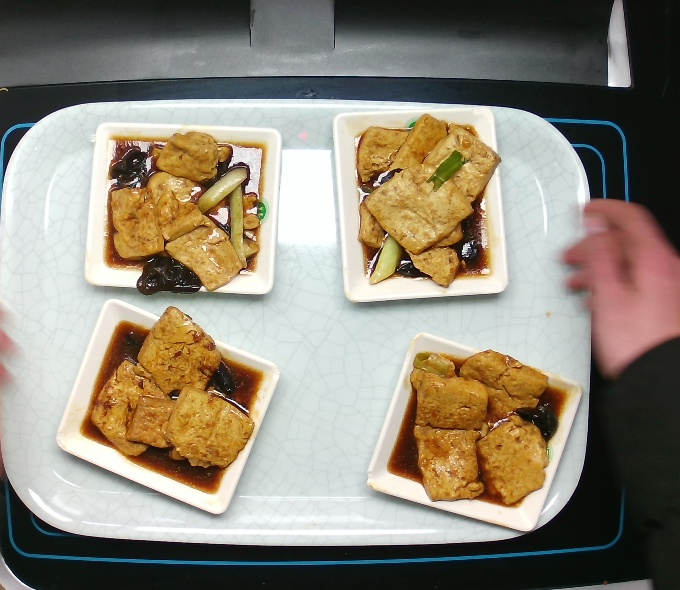wcq-JiaChangDouFu: (74, 303, 268, 498), (384, 347, 571, 511), (99, 126, 269, 299), (349, 108, 504, 294)
